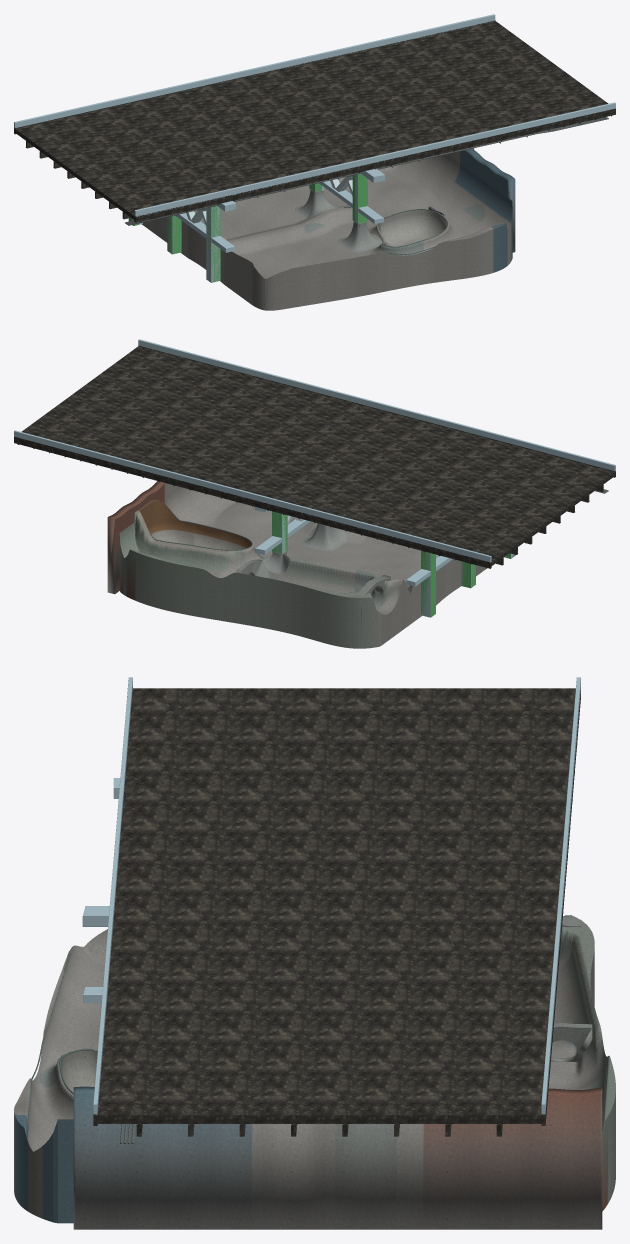
File: burnside.glb
The picture shows the model from 3 angles, top to bottom: view 1: azimuth 30°, elevation 25°; view 2: azimuth 150°, elevation 25°; view 3: azimuth 270°, elevation 25°; orthographic projection. The views are drawn at different scales.
Visible parts, largest first — view 1: ENV_Bridge_Deck_Soffit, COL_Connected_Court_And_Rolling_Decks, ENV_Bridge_Parapet_-1, ENV_Bridge_Parapet_1, ENV_Bridge_Edge_Fascia_-1, COL_Deep_Pool_Ride_Surface, COL_East_Tall_Wall, ENV_Bent_02_Pier_01, ENV_Underside_Conduit_01, COL_Pillar_Flare_01, COL_Bent_02_Pier_01, COL_Pillar_Flare_02 (+6 smaller); view 2: ENV_Bridge_Deck_Soffit, COL_Connected_Court_And_Rolling_Decks, ENV_Bridge_Parapet_1, ENV_Bridge_Parapet_-1, COL_Small_Pool_Ride_Surface, COL_East_Tall_Wall, ENV_Bridge_Edge_Fascia_1, COL_Pillar_Flare_02, COL_Bent_02_Pier_03, ENV_Bridge_Edge_Fascia_-1, COL_Bent_01_Pier_03, ENV_Bent_01_Lower_Crossbeam (+3 smaller); view 3: ENV_Bridge_Deck_Soffit, COL_East_Tall_Wall, COL_Connected_Court_And_Rolling_Decks, ENV_Bridge_Parapet_1, ENV_Bridge_Parapet_-1, COL_Deep_Pool_Ride_Surface, COL_Tunnel_Portal_02.
Part boxes in pixels (box(x1,y1,x2,y2)): ENV_Bridge_Deck_Soffit: box(14, 21, 615, 220); COL_Connected_Court_And_Rolling_Decks: box(142, 154, 512, 310); ENV_Bridge_Parapet_-1: box(134, 102, 615, 216); ENV_Bridge_Parapet_1: box(14, 14, 495, 127); ENV_Bridge_Edge_Fascia_-1: box(134, 108, 615, 222); COL_Deep_Pool_Ride_Surface: box(379, 210, 447, 246); COL_East_Tall_Wall: box(448, 148, 515, 252); ENV_Bent_02_Pier_01: box(206, 206, 220, 282); ENV_Underside_Conduit_01: box(128, 118, 608, 225); COL_Pillar_Flare_01: box(338, 220, 382, 252); COL_Bent_02_Pier_01: box(206, 206, 220, 282); COL_Pillar_Flare_02: box(295, 189, 338, 218); ENV_Bridge_Deck_Soffit: box(14, 346, 615, 567); COL_Connected_Court_And_Rolling_Decks: box(119, 487, 486, 648); ENV_Bridge_Parapet_1: box(14, 430, 491, 562); ENV_Bridge_Parapet_-1: box(138, 339, 615, 471); COL_Small_Pool_Ride_Surface: box(139, 501, 251, 549); COL_East_Tall_Wall: box(107, 481, 181, 593); ENV_Bridge_Edge_Fascia_1: box(14, 436, 491, 568); COL_Pillar_Flare_02: box(302, 523, 347, 551); COL_Bent_02_Pier_03: box(421, 550, 435, 617); ENV_Bridge_Edge_Fascia_-1: box(138, 345, 615, 477); COL_Bent_01_Pier_03: box(272, 511, 287, 554); ENV_Bent_01_Lower_Crossbeam: box(255, 519, 310, 554); ENV_Bridge_Deck_Soffit: box(93, 688, 580, 1122); COL_East_Tall_Wall: box(73, 1086, 602, 1229); COL_Connected_Court_And_Rolling_Decks: box(14, 915, 615, 1223); ENV_Bridge_Parapet_1: box(541, 677, 580, 1114); ENV_Bridge_Parapet_-1: box(93, 677, 132, 1115); COL_Deep_Pool_Ride_Surface: box(61, 1050, 97, 1092); COL_Tunnel_Portal_02: box(551, 1023, 592, 1061).
Size of the model in its own units: 58.78 by 14.18 by 34.89.
Materials: 7 (2 with a texture image).
